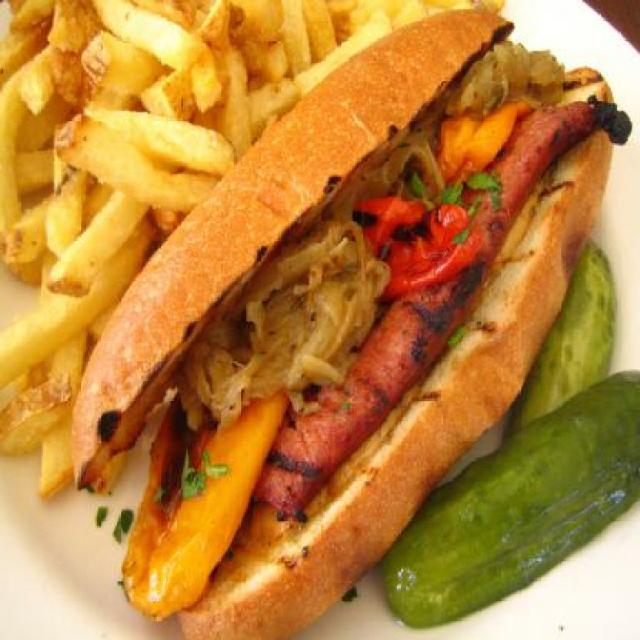Zucchini: (368, 354, 617, 620)
